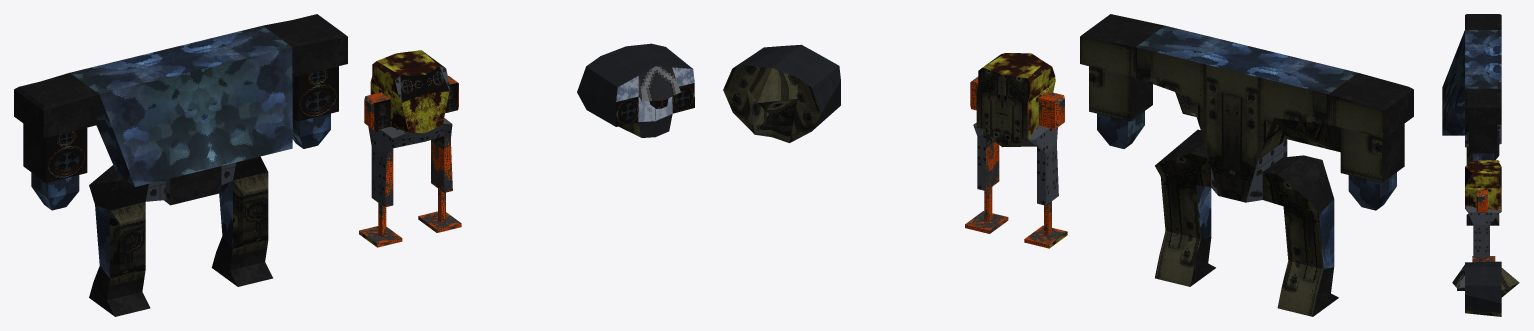
The model's file is mech_enemies.glb.
3 renders of one model, left to right at view 1: azimuth 30°, elevation 25°; view 2: azimuth 150°, elevation 25°; view 3: azimuth 270°, elevation 25°, orthographic. The views are drawn at different scales.
Visible parts, largest first — view 1: BigMech, Walker, Drone; view 2: BigMech, Walker, Drone; view 3: BigMech, Walker, Drone.
Part boxes in pixels (x1,y1,x2,y2): BigMech: (14,14,347,316); Walker: (359,50,461,247); Drone: (577,43,694,137); BigMech: (1080,14,1413,316); Walker: (965,53,1067,248); Drone: (723,44,840,142); BigMech: (1442,14,1501,225); Walker: (1465,160,1501,262); Drone: (1452,261,1519,316).
Size of the model in its own units: 25.88 by 8.53 by 4.22.
3 materials, 3 textured.
